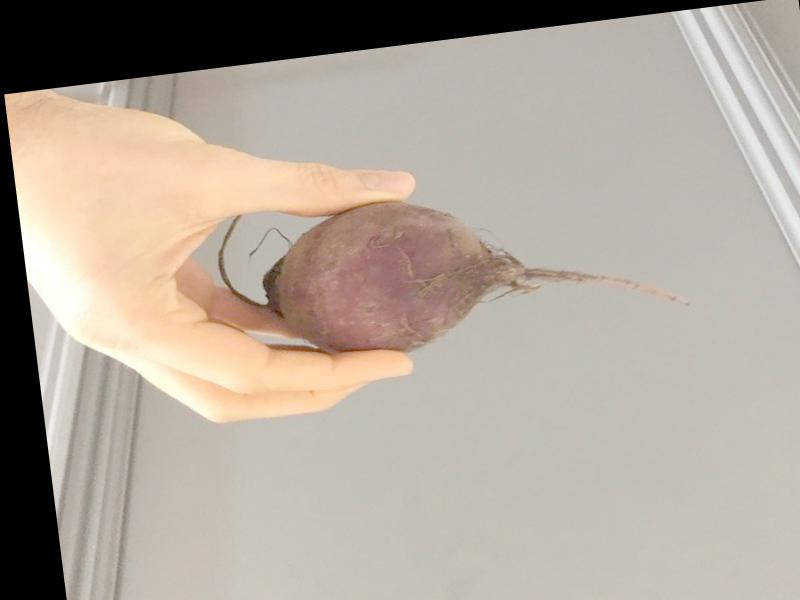Beet: (215, 162, 700, 369)
